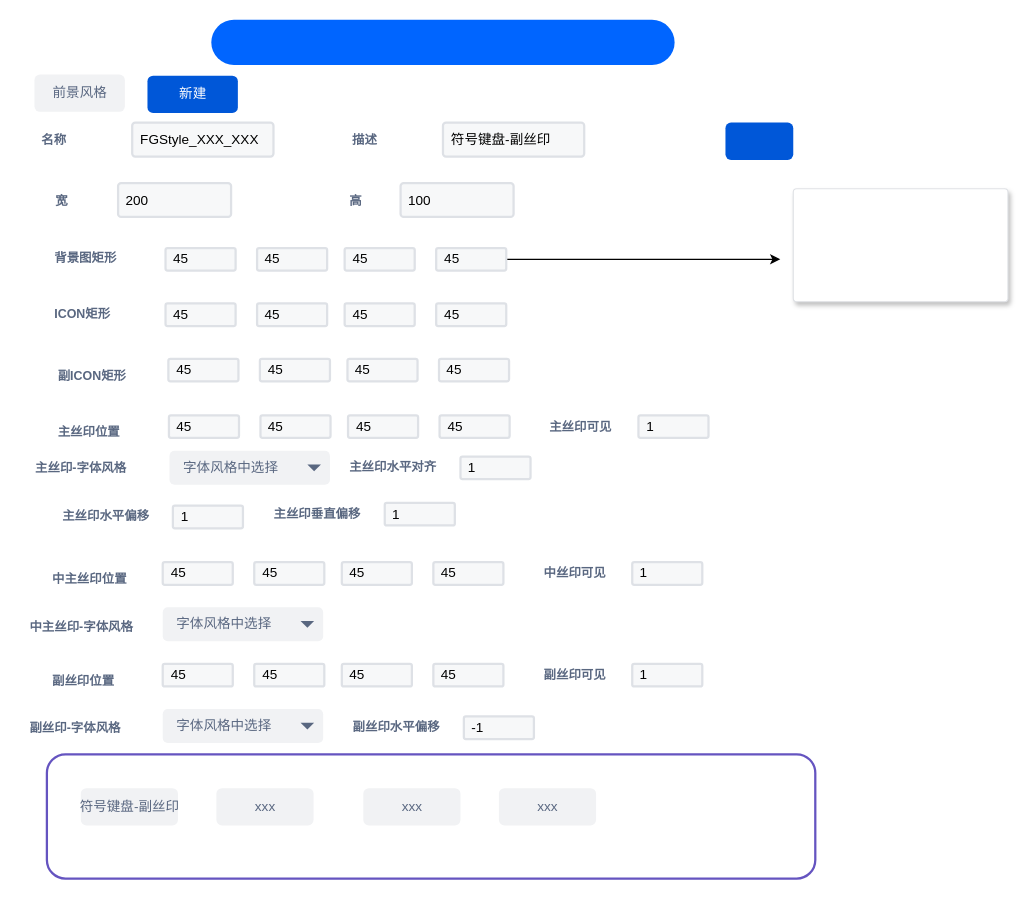
The diagram is 1035 pixels wide and 898 high, and some of its shapes have lost their labels. The shapes that lost their labels are listed below. From the top down, each one's centre as x and y in pixels, then its label:
the point at 442,41: 前景设置
the point at 759,140: 保存
the point at 901,246: IOS: 字段 BG_IMAGE_RECT
